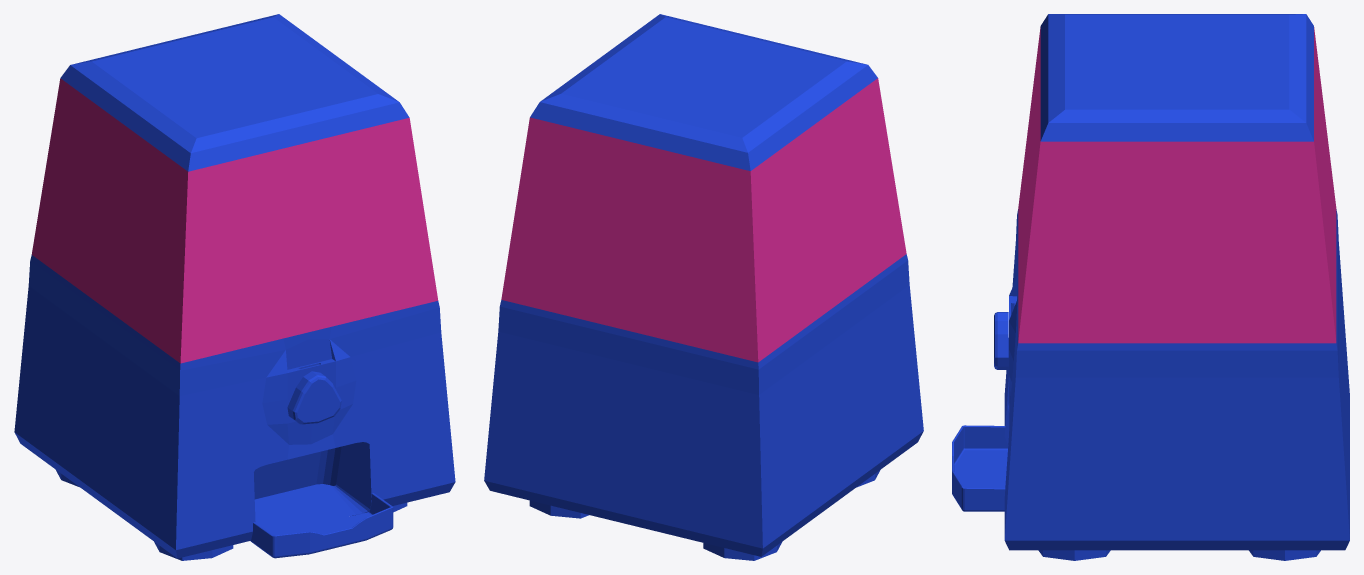
File: gamble3joined.fbx
3 views of the same model, side by side, from view 1: azimuth 30°, elevation 25°; view 2: azimuth 150°, elevation 25°; view 3: azimuth 270°, elevation 25° (orthographic). The views are drawn at different scales.
Visible parts, largest first — view 1: GachaMachine; view 2: GachaMachine; view 3: GachaMachine.
Part boxes in pixels (bbox=[...]): GachaMachine: bbox=[14, 14, 455, 560]; GachaMachine: bbox=[484, 14, 923, 560]; GachaMachine: bbox=[952, 14, 1349, 560].
Bounding box in the file's own units: 348 × 486 × 401.
